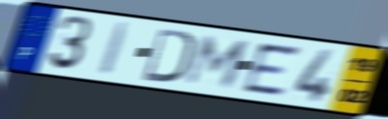3: (47, 15, 94, 73)
4: (291, 46, 337, 105)
D: (141, 26, 197, 86)
E: (241, 41, 303, 97)
I: (96, 21, 134, 79)
M: (182, 34, 254, 90)
